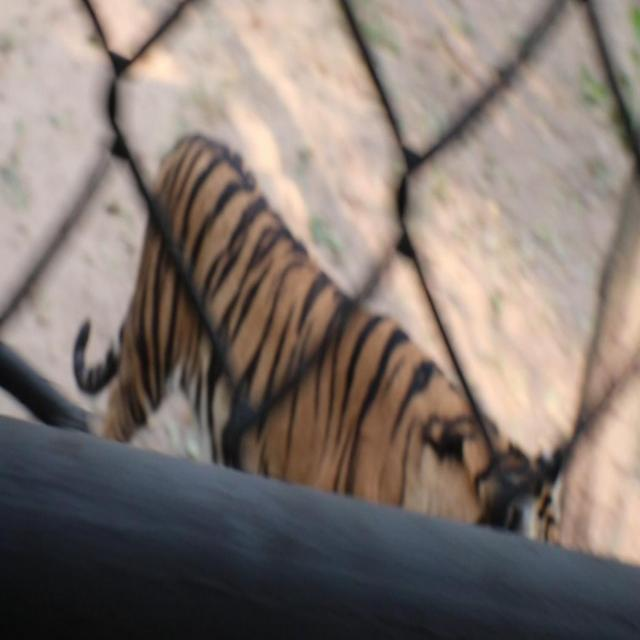tiger: (72, 131, 530, 528)
